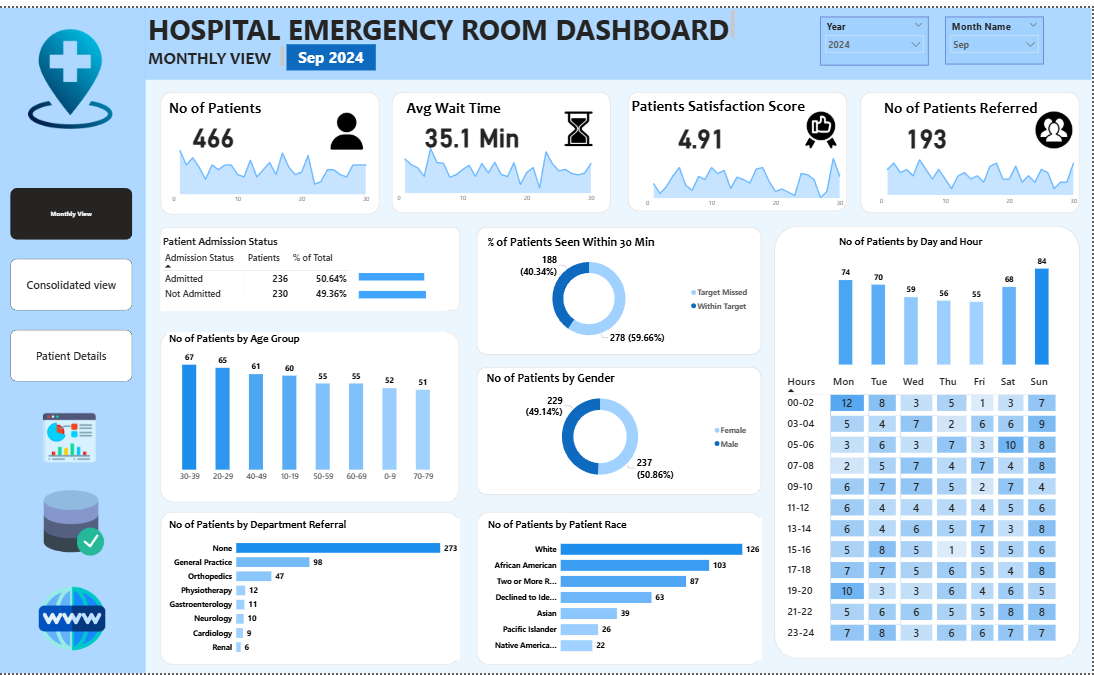

What the dashboard file says about the page in this screenshot:
{"tool":"powerbi","page":{"name":"Monthly View","canvas":[2300,1400],"ordinal":0},"visuals":[{"type":"shape","box":[338.8,461.2,630.6,177.6],"z":0},{"type":"shape","box":[338.8,175.5,462,259],"z":1000},{"type":"card","fields":{"Values":["Hospital ER_Data.No of Patients"]},"box":[298,206.1,308.2,124.5],"z":2000},{"type":"shape","box":[0,0,309.1,1400.7],"z":3000},{"type":"shape","box":[308.2,0,1991.8,151],"z":4000},{"type":"textbox","box":[309.1,0,1245.9,76.1],"z":5000},{"type":"textbox","box":[308.2,77.6,298,53.1],"z":6000},{"type":"slicer","fields":{"Values":["Date Table.Year"]},"box":[1728.6,19,228.3,102.2],"z":7000},{"type":"slicer","fields":{"Values":["Date Table.Month Name"]},"box":[1992.5,19,206.9,99.9],"z":8000},{"type":"textbox","box":[353.1,187.8,334.7,53.1],"z":9000},{"type":"areaChart","fields":{"Category":["Date Table.Date.Variation.Date Hierarchy.Day"],"Y":["Hospital ER_Data.No of Patients"]},"box":[353.1,277.6,434.7,144.9],"z":10000},{"type":"card","fields":{"Values":["Min(Date Table.Month & Year)"]},"box":[606.1,77.6,187.8,55.1],"z":11000},{"type":"shape","box":[827.2,176,462,256],"z":12000},{"type":"shape","box":[1324,176,462,252],"z":13000},{"type":"shape","box":[1814,176,462,256],"z":14000},{"type":"textbox","box":[851.7,187.5,382.5,80],"z":15000},{"type":"areaChart","fields":{"Category":["Date Table.Date.Variation.Date Hierarchy.Day"],"Y":["Avg(Hospital ER_Data.Patient Waittime)"]},"box":[826.7,277.5,435,142.5],"z":16000},{"type":"areaChart","fields":{"Category":["Date Table.Date.Variation.Date Hierarchy.Day"],"Y":["Hospital ER_Data.Satisfaction Score"]},"box":[1349.7,283.2,435,145],"z":17000},{"type":"areaChart","fields":{"Category":["Date Table.Date.Variation.Date Hierarchy.Day"],"Y":["Hospital ER_Data.No of Patients Referred"]},"box":[1842.5,280,435,145],"z":18000},{"type":"textbox","box":[1327.5,182.5,400,52.5],"z":19000},{"type":"textbox","box":[1857.5,187.5,405,52.5],"z":20000},{"type":"card","fields":{"Values":["Hospital ER_Data.Avg Wait Time"]},"box":[842.5,205,307.5,122.5],"z":21000},{"type":"card","fields":{"Values":["Hospital ER_Data.Satisfaction Score"]},"box":[1324.7,208.2,310,122.5],"z":22000},{"type":"card","fields":{"Values":["Hospital ER_Data.No of Patients Referred"]},"box":[1797.5,207.5,310,122.5],"z":23000},{"type":"pivotTable","title":"Patient Admission Status","fields":{"Rows":["Hospital ER_Data.Admission Status"],"Values":["Hospital ER_Data.No of Patients1","Hospital ER_Data.No of Patients"]},"box":[338.8,477.6,604.1,161.2],"z":24000},{"type":"barChart","fields":{"Y":["Hospital ER_Data.No of Patients"],"Category":["Hospital ER_Data.Admission Status"]},"box":[753.1,526.5,189.8,112.2],"z":25000},{"type":"shape","box":[340,682.5,630,360],"z":26000},{"type":"clusteredColumnChart","fields":{"Category":["Hospital ER_Data.Age Group"],"Y":["Hospital ER_Data.No of Patients"]},"box":[353.1,681.6,589.8,326.5],"z":27000},{"type":"shape","box":[1005,460,600,270],"z":28000},{"type":"donutChart","title":"% of Patients Seen Within 30 Min","fields":{"Category":["Hospital ER_Data.Waittime Status"],"Y":["Hospital ER_Data.No of Patients"]},"box":[1022.5,475,565,240],"z":29000},{"type":"shape","box":[1005,755,600,270],"z":30000},{"type":"donutChart","title":"No of Patients by Gender","fields":{"Y":["Hospital ER_Data.No of Patients"],"Category":["Hospital ER_Data.Patient Gender"]},"box":[1020,763.3,565.9,247.3],"z":31000},{"type":"shape","box":[340,1060,630,322.5],"z":32000},{"type":"clusteredBarChart","fields":{"Y":["Hospital ER_Data.No of Patients"],"Category":["Hospital ER_Data.Department Referral"]},"box":[352.5,1072.5,617.5,300],"z":33000},{"type":"shape","box":[1005,1060,600,322.5],"z":34000},{"type":"clusteredBarChart","fields":{"Y":["Hospital ER_Data.No of Patients"],"Category":["Hospital ER_Data.Patient Race"]},"box":[1022.5,1072.5,582.5,300],"z":35000},{"type":"shape","box":[1631.1,458.9,644.4,913],"z":36000},{"type":"pivotTable","fields":{"Rows":["Hospital ER_Data.Waittime Interval"],"Columns":["Date Table.Day Name"],"Values":["Hospital ER_Data.No of Patients"]},"box":[1650.1,763.3,608.7,596.8],"z":37000},{"type":"columnChart","title":"No of Patients by Day and Hour","fields":{"Category":["Date Table.Day Name"],"Y":["Hospital ER_Data.No of Patients"]},"box":[1764.3,475.5,454.1,280.6],"z":38000},{"type":"image","box":[0,40,300,220],"z":39000},{"type":"pageNavigator","box":[22.5,380,257.5,407.5],"z":39001},{"type":"image","box":[80,1010,157.5,147.5],"z":39002},{"type":"image","box":[80,1210,150,150],"z":39003},{"type":"image","box":[32.5,845,232.5,120],"z":39004},{"type":"image","box":[2142.5,212.5,157.5,87.5],"z":39005},{"type":"image","box":[1650,212.5,160,87.5],"z":39006},{"type":"image","box":[1180,212.5,82.5,82.5],"z":39007},{"type":"image","box":[687.5,215,90,87.5],"z":39008}]}

Visuals, with their boxes in screenshot pixels (x1, y1, x2, y2), scaled from the page's 2300x1400 canvas onto the 1094x675 screenshot:
shape: bbox=[161, 222, 461, 308]
shape: bbox=[161, 85, 381, 209]
card - Hospital ER_Data.No of Patients: bbox=[142, 99, 288, 159]
shape: bbox=[0, 0, 147, 674]
shape: bbox=[147, 0, 1093, 73]
textbox: bbox=[147, 0, 740, 37]
textbox: bbox=[147, 37, 288, 63]
slicer - Date Table.Year: bbox=[822, 9, 931, 58]
slicer - Date Table.Month Name: bbox=[948, 9, 1046, 57]
textbox: bbox=[168, 91, 327, 116]
areaChart - Date Table.Date.Variation.Date Hierarchy.Day x Hospital ER_Data.No of Patients: bbox=[168, 134, 375, 204]
card - Min(Date Table.Month & Year): bbox=[288, 37, 378, 64]
shape: bbox=[393, 85, 613, 208]
shape: bbox=[630, 85, 850, 206]
shape: bbox=[863, 85, 1083, 208]
textbox: bbox=[405, 90, 587, 129]
areaChart - Date Table.Date.Variation.Date Hierarchy.Day x Avg(Hospital ER_Data.Patient Waittime): bbox=[393, 134, 600, 202]
areaChart - Date Table.Date.Variation.Date Hierarchy.Day x Hospital ER_Data.Satisfaction Score: bbox=[642, 137, 849, 206]
areaChart - Date Table.Date.Variation.Date Hierarchy.Day x Hospital ER_Data.No of Patients Referred: bbox=[876, 135, 1083, 205]
textbox: bbox=[631, 88, 822, 113]
textbox: bbox=[884, 90, 1076, 116]
card - Hospital ER_Data.Avg Wait Time: bbox=[401, 99, 547, 158]
card - Hospital ER_Data.Satisfaction Score: bbox=[630, 100, 778, 159]
card - Hospital ER_Data.No of Patients Referred: bbox=[855, 100, 1002, 159]
"Patient Admission Status" pivotTable: bbox=[161, 230, 448, 308]
barChart - Hospital ER_Data.No of Patients x Hospital ER_Data.Admission Status: bbox=[358, 254, 448, 308]
shape: bbox=[162, 329, 461, 503]
clusteredColumnChart - Hospital ER_Data.Age Group x Hospital ER_Data.No of Patients: bbox=[168, 329, 448, 486]
shape: bbox=[478, 222, 763, 352]
"% of Patients Seen Within 30 Min" donutChart: bbox=[486, 229, 755, 345]
shape: bbox=[478, 364, 763, 494]
"No of Patients by Gender" donutChart: bbox=[485, 368, 754, 487]
shape: bbox=[162, 511, 461, 667]
clusteredBarChart - Hospital ER_Data.No of Patients x Hospital ER_Data.Department Referral: bbox=[168, 517, 461, 662]
shape: bbox=[478, 511, 763, 667]
clusteredBarChart - Hospital ER_Data.No of Patients x Hospital ER_Data.Patient Race: bbox=[486, 517, 763, 662]
shape: bbox=[776, 221, 1082, 661]
pivotTable - Hospital ER_Data.Waittime Interval x Date Table.Day Name: bbox=[785, 368, 1074, 656]
"No of Patients by Day and Hour" columnChart: bbox=[839, 229, 1055, 365]
image: bbox=[0, 19, 143, 125]
pageNavigator: bbox=[11, 183, 133, 380]
image: bbox=[38, 487, 113, 558]
image: bbox=[38, 583, 109, 656]
image: bbox=[15, 407, 126, 465]
image: bbox=[1019, 102, 1093, 145]
image: bbox=[785, 102, 861, 145]
image: bbox=[561, 102, 601, 142]
image: bbox=[327, 104, 370, 146]
